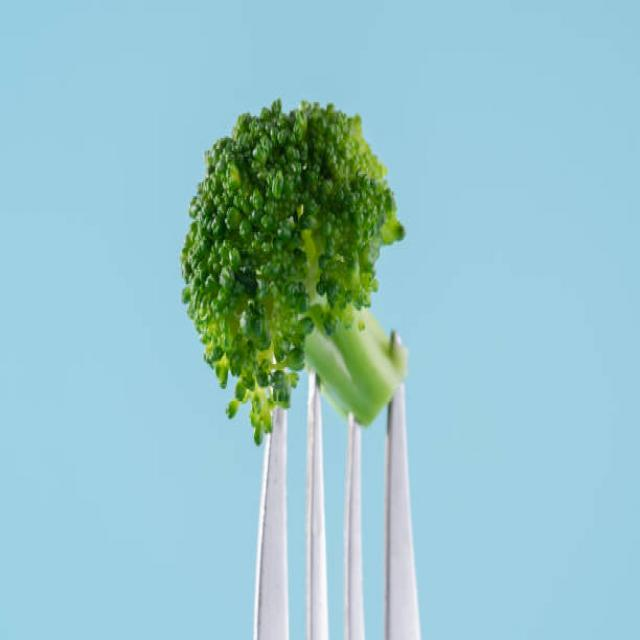Broccoli head: (169, 76, 460, 398)
